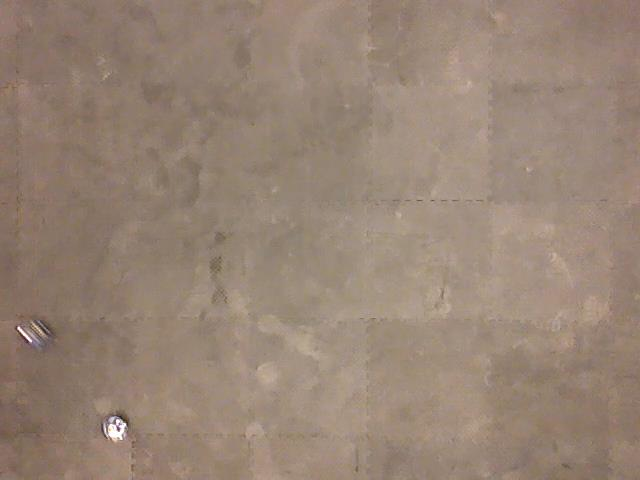Agent: (13, 313, 55, 353), (99, 411, 132, 445)
